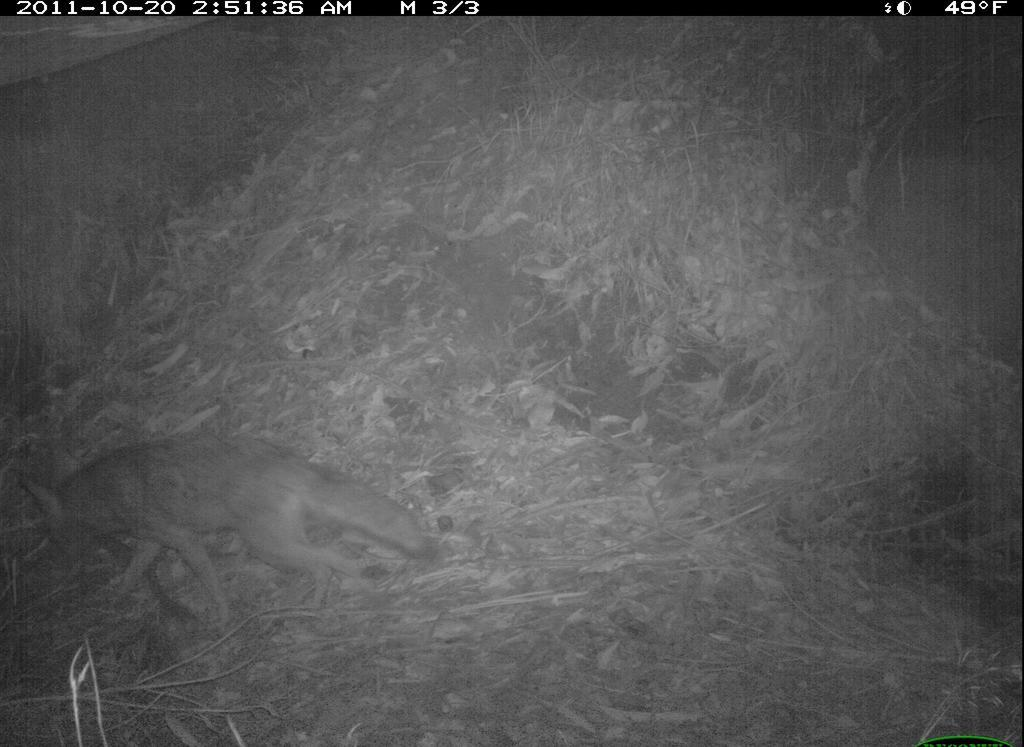coyote: (12, 413, 450, 634)
